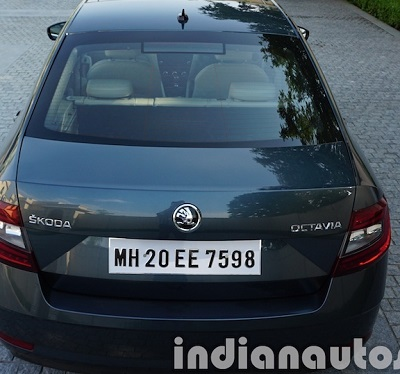number_plate: (104, 228, 281, 287)
